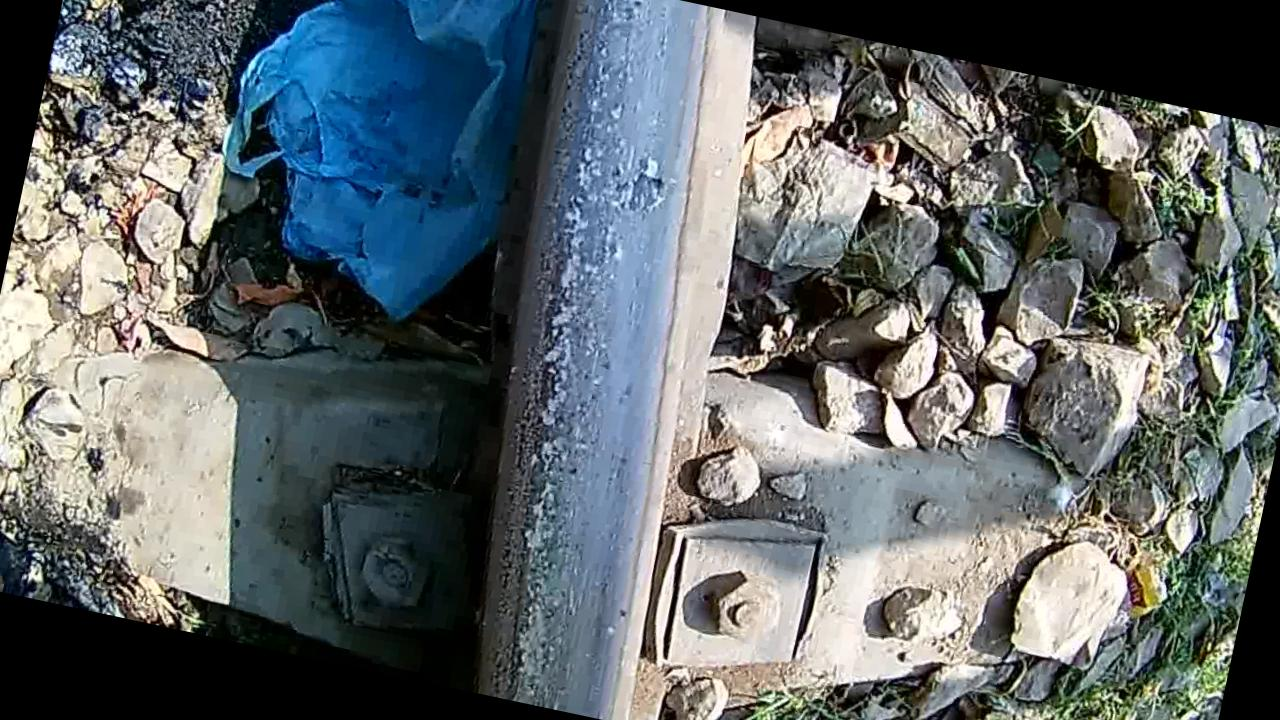crack: (428, 0, 738, 717)
